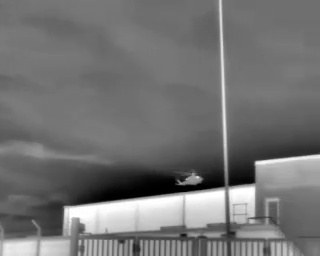HELICOPTER: (168, 165, 208, 190)
